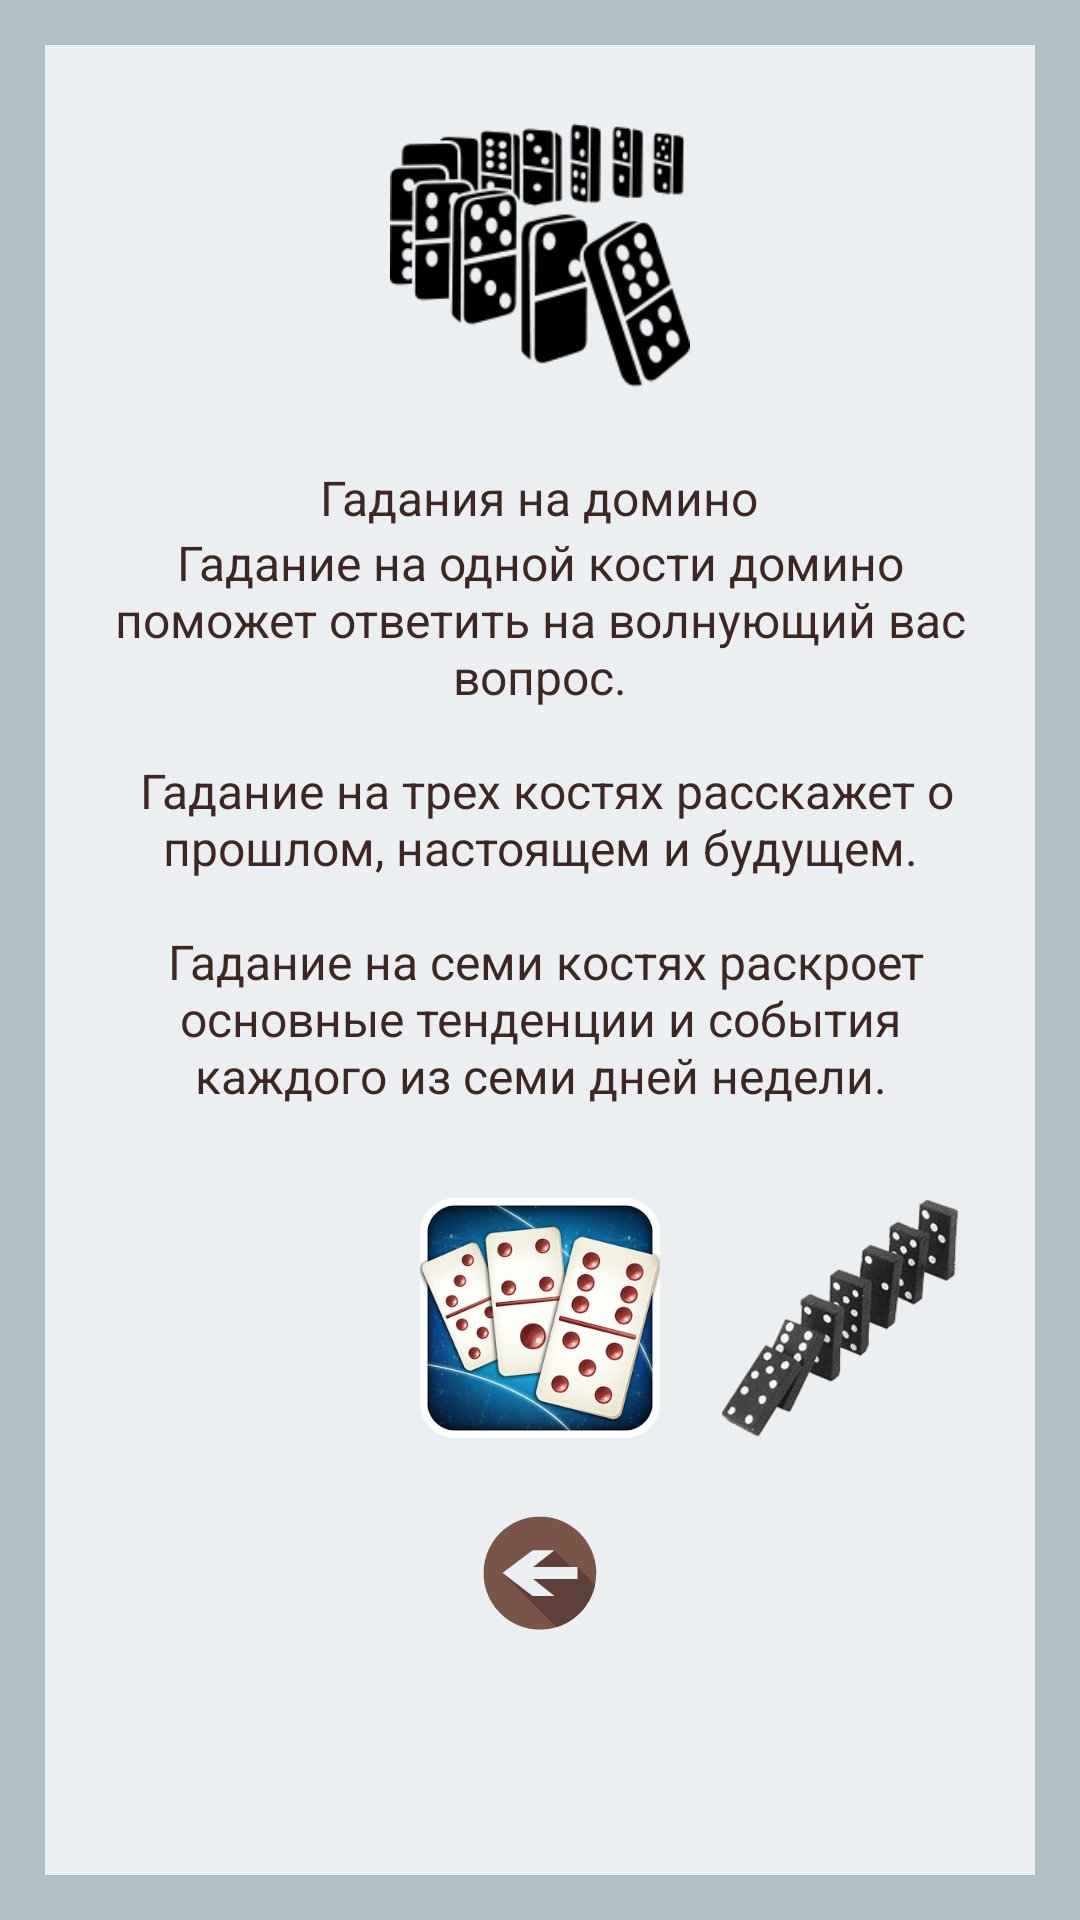

Screen size 1080*1920. Icon name, then its box in pixels as (x1, y1, x2, y2):
domino seven: (721, 1200, 958, 1436)
domino three: (420, 1205, 660, 1431)
